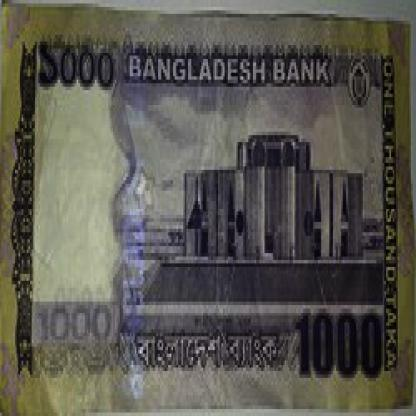One Thousand taka: (285, 312, 386, 381), (35, 38, 118, 97)
